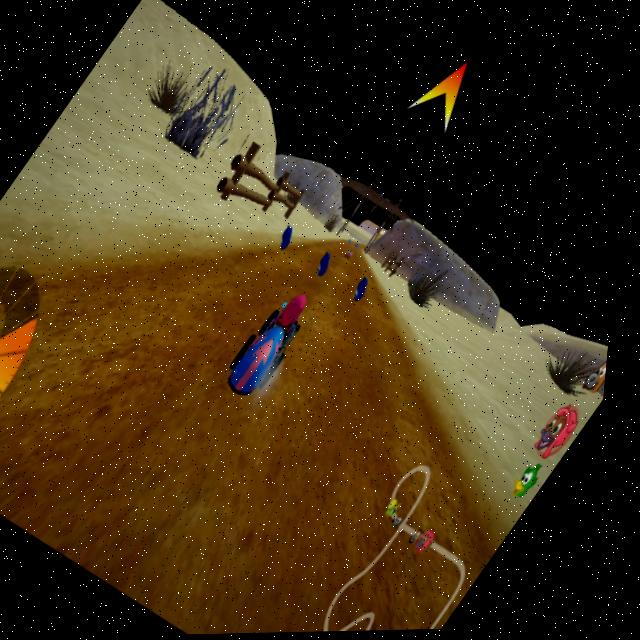enemy_kart: (346, 247, 363, 265)
nitro: (272, 219, 308, 258), (316, 250, 341, 278), (354, 277, 379, 304)
player_kart: (220, 287, 324, 405)
